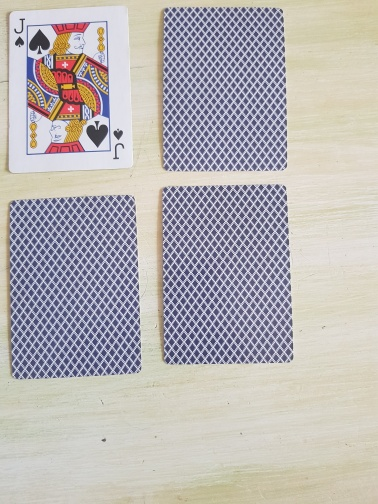jack: (7, 4, 134, 175)
